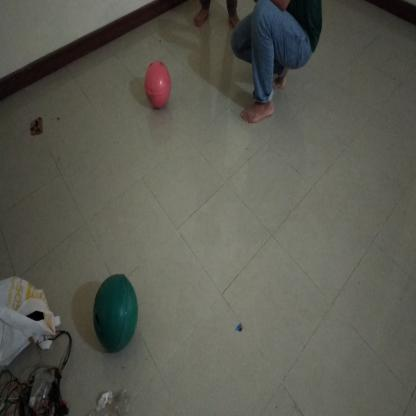green_buoy: (90, 269, 140, 360)
red_buoy: (143, 59, 174, 113)
